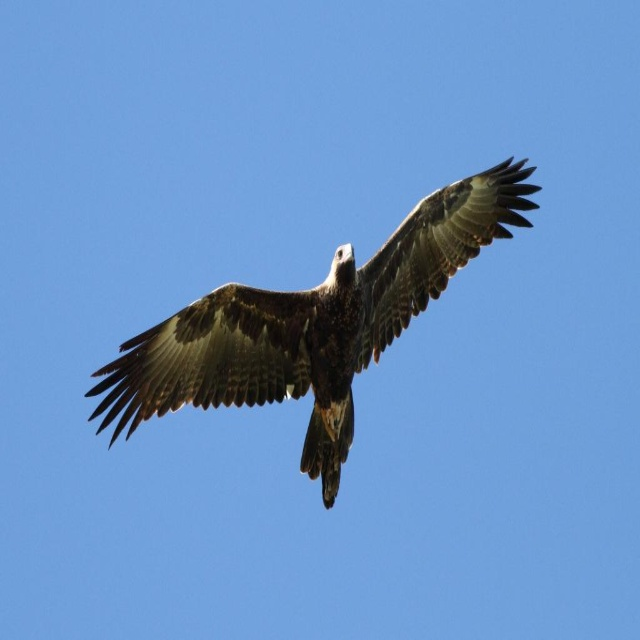Eagle: (84, 155, 541, 509)
